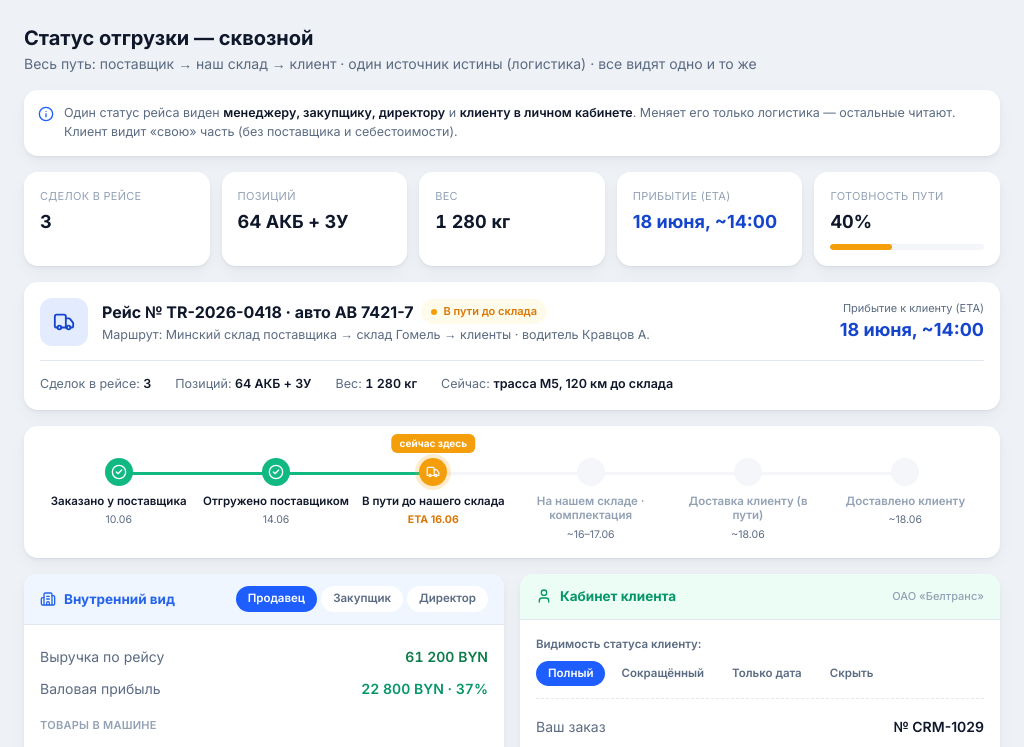
Test: ShipmentStatus › переключение на «Закупщик» раскрывает себестоимость и прячет выручку и клиента
Click the button "Закупщик": (362, 599) [321,586,403,612]
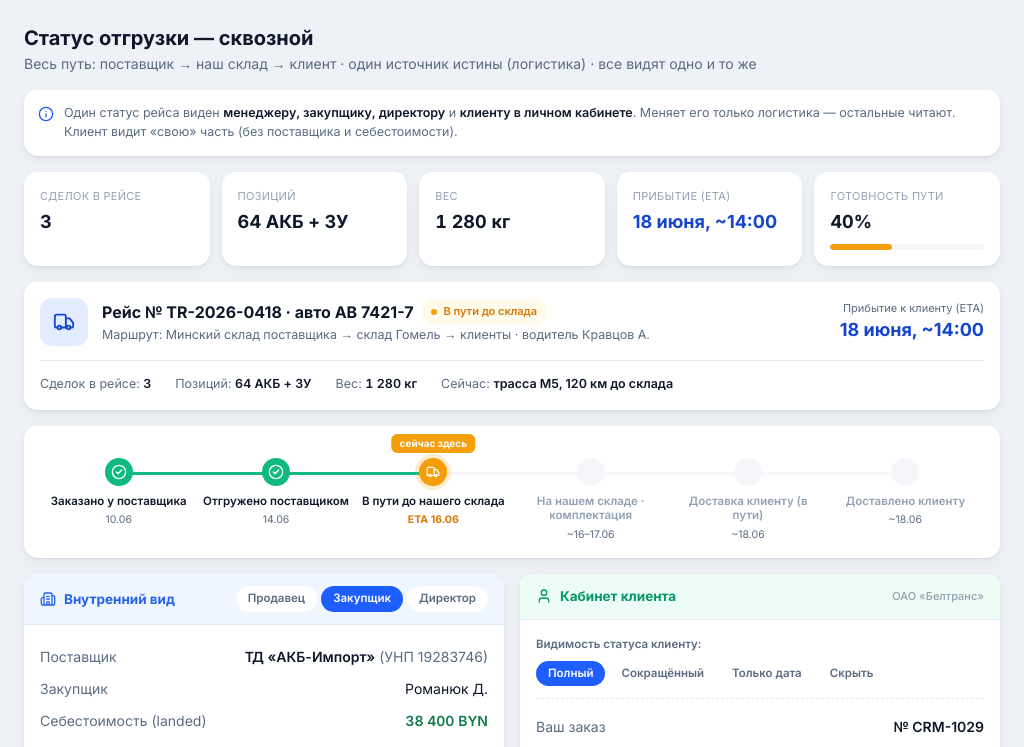
Result: the text "Поставщик" is shown at [40,646,117,666]
Result: the text "Себестоимость (landed)" is shown at [40,710,206,730]
Result: the text "Выручка по рейсу" is gone
